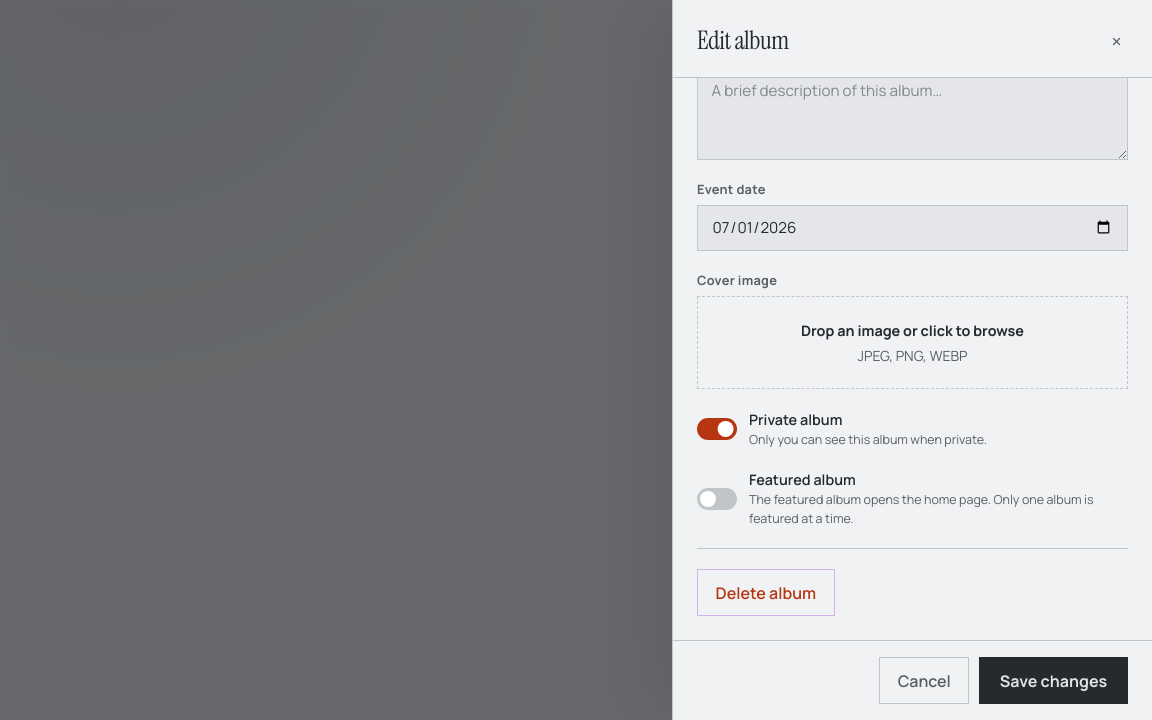
it: deleting an album › deletes nothing when the owner cancels with the button or Escape
This screenshot has width=1152, height=720.
(page scrolled)
Click the button "Delete album" at (766, 593), box [697,569,835,616]
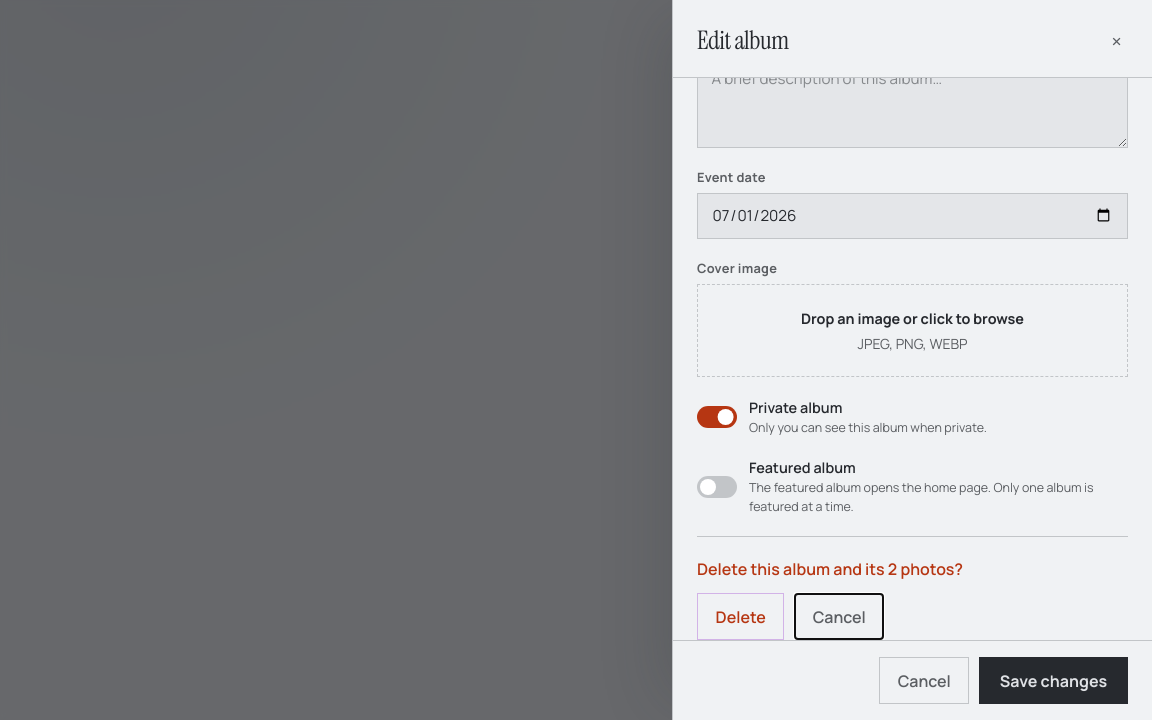
Click the button with aria-label "Cancel delete" at (839, 617), box [794,593,884,640]
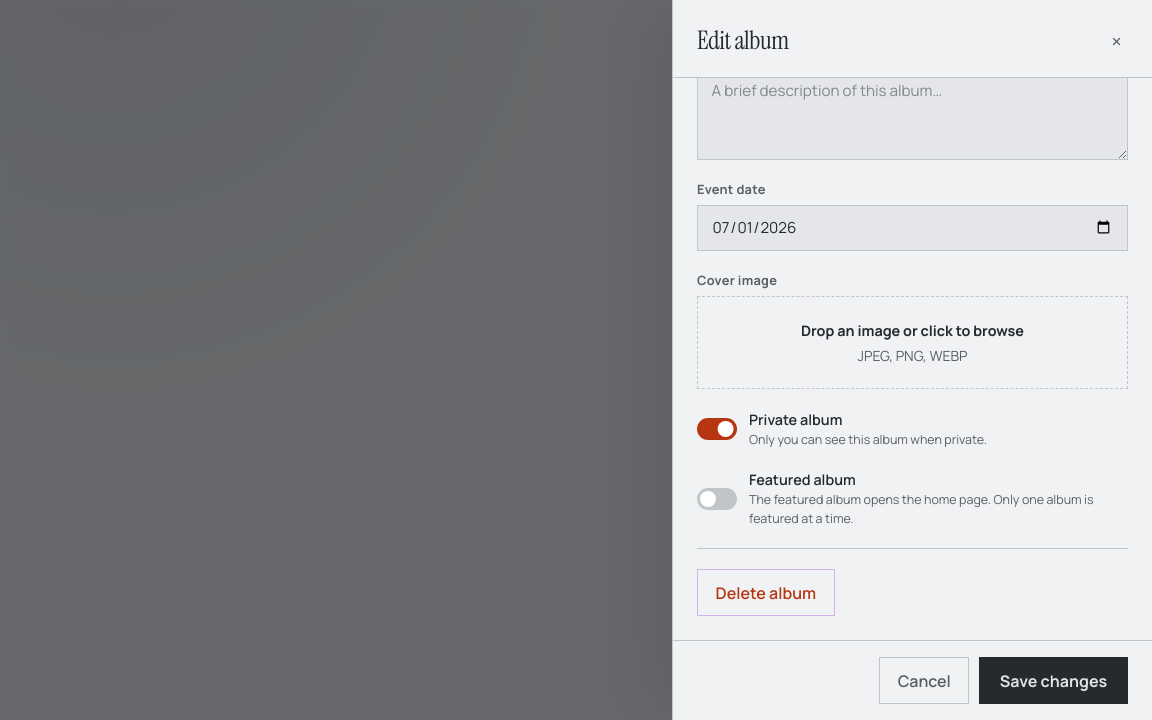
Now the button "Delete album" is shown
Click the button "Delete album" at (766, 593), box [697,569,835,616]
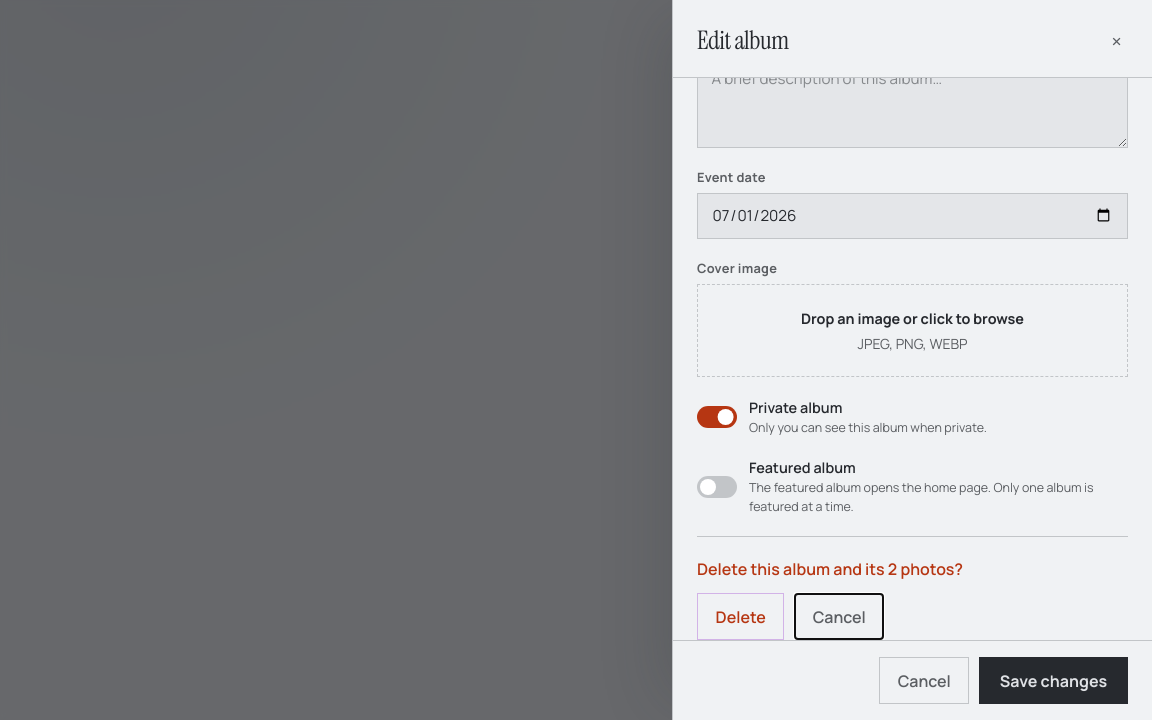
Press Escape in the button with aria-label "Cancel delete", box [794,593,884,640]
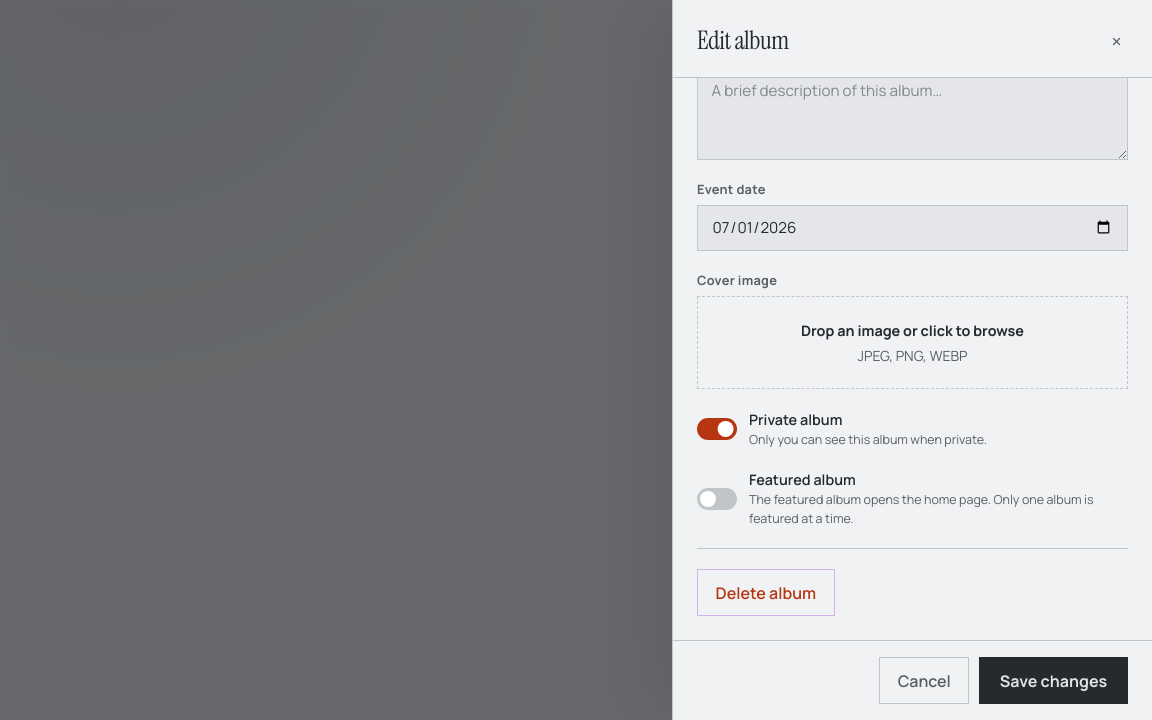
Now the text "Delete this album" is gone
